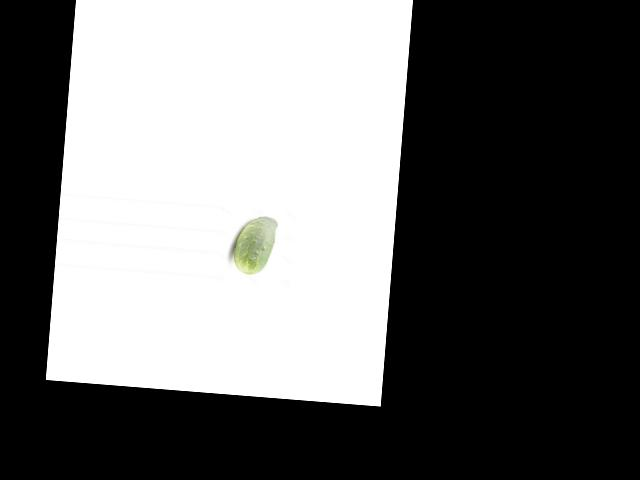cucumber: (232, 214, 278, 276)
